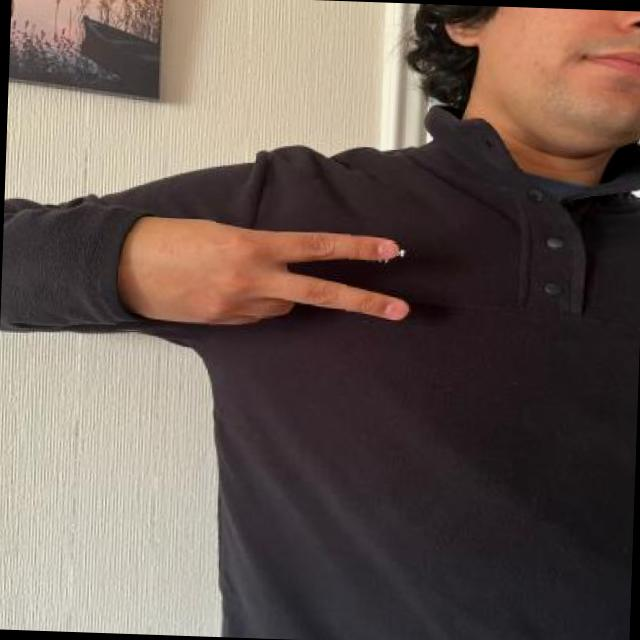H: (115, 216, 418, 342)
